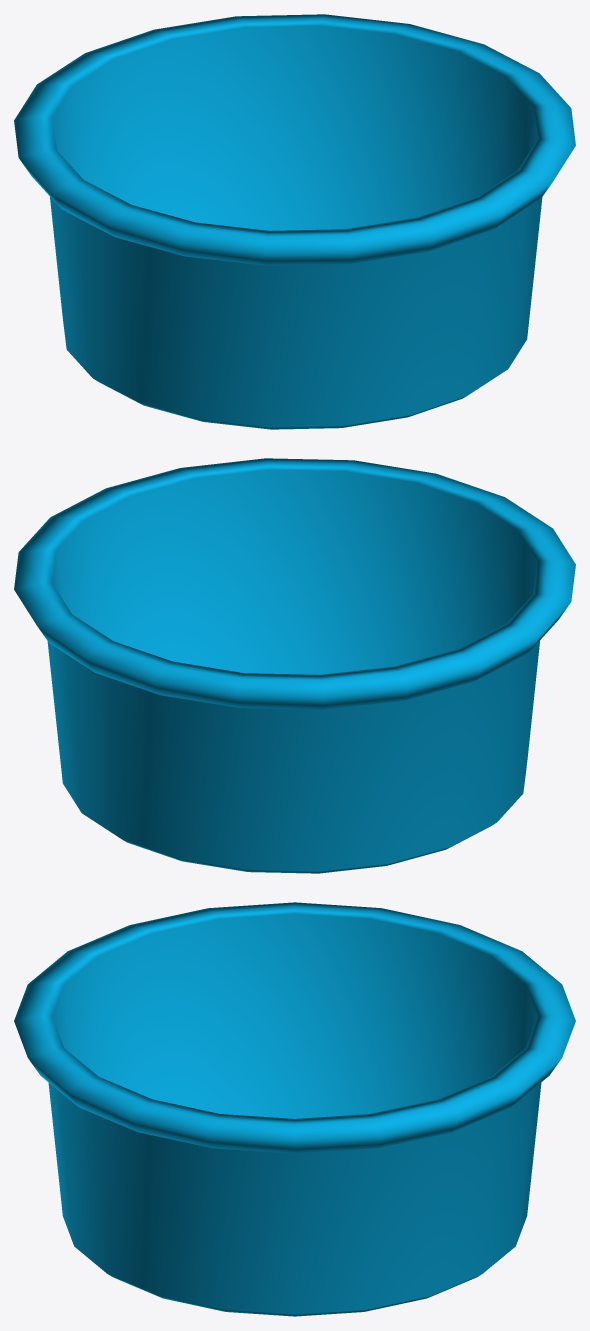
File: Wash_Basin_02_Lod0.fbx
3 views of the same model, one above another, from view 1: azimuth 30°, elevation 25°; view 2: azimuth 150°, elevation 25°; view 3: azimuth 270°, elevation 25° (orthographic).
Visible parts, largest first — view 1: Wash_Basin_02_Lod0; view 2: Wash_Basin_02_Lod0; view 3: Wash_Basin_02_Lod0.
Boxes of the visible parts, left/top/right/bottom form: Wash_Basin_02_Lod0: left=14, top=14, right=575, bottom=429; Wash_Basin_02_Lod0: left=14, top=458, right=575, bottom=873; Wash_Basin_02_Lod0: left=14, top=902, right=575, bottom=1316.
Size of the model in its own units: 32.04 by 12.91 by 32.04.
